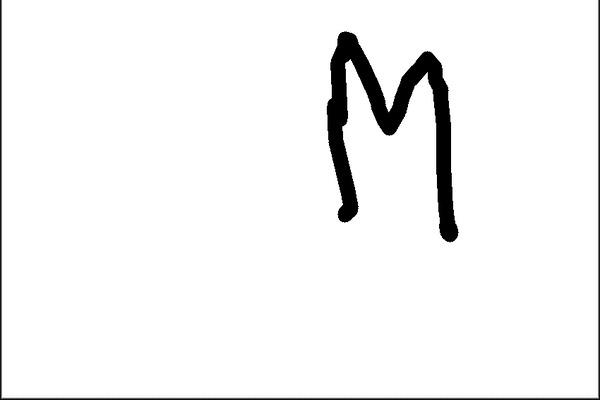M: (324, 24, 463, 246)
